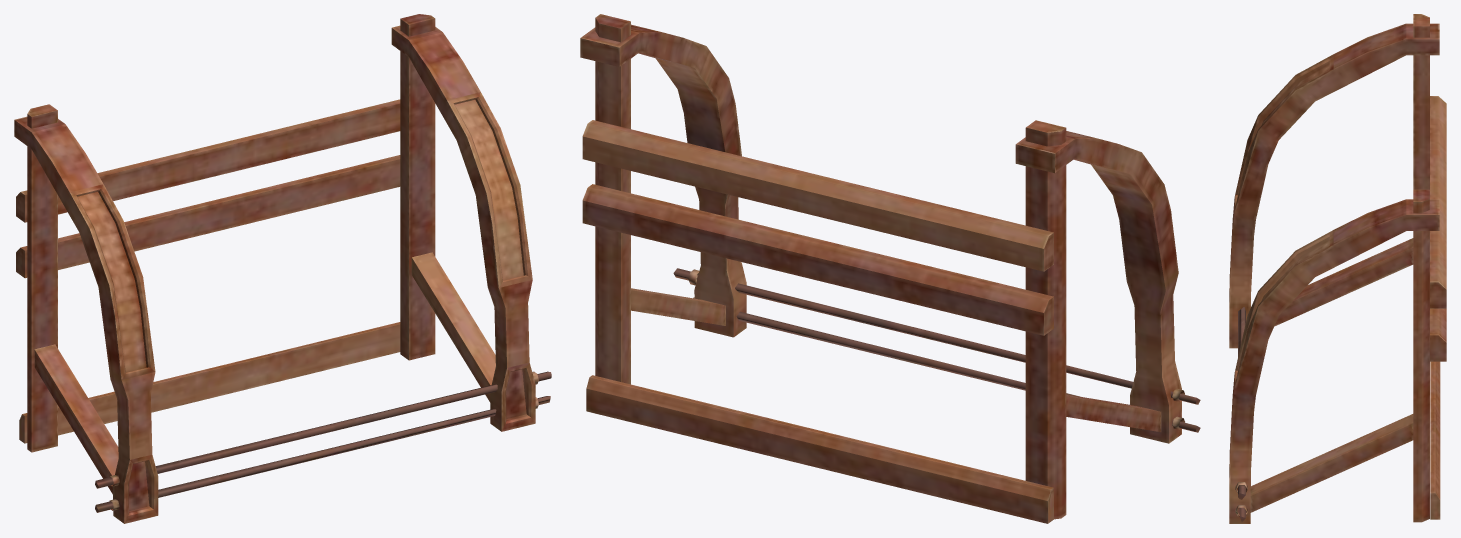
The model's file is weapon-rack.lod0.glb.
3 renders of one model, left to right at view 1: azimuth 30°, elevation 25°; view 2: azimuth 150°, elevation 25°; view 3: azimuth 270°, elevation 25°, orthographic. The views are drawn at different scales.
Parts seen in each view (by area): view 1: defaultMaterial; view 2: defaultMaterial; view 3: defaultMaterial.
Part boxes in pixels (x1,y1,x2,y2): defaultMaterial: [14, 14, 551, 523]; defaultMaterial: [580, 14, 1200, 523]; defaultMaterial: [1229, 14, 1446, 523].
Bounding box in the file's own units: 2 × 1.42 × 0.8714.
1 material, 1 textured.
